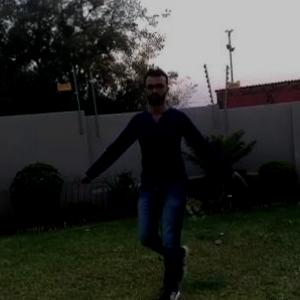land: (82, 68, 244, 287)
